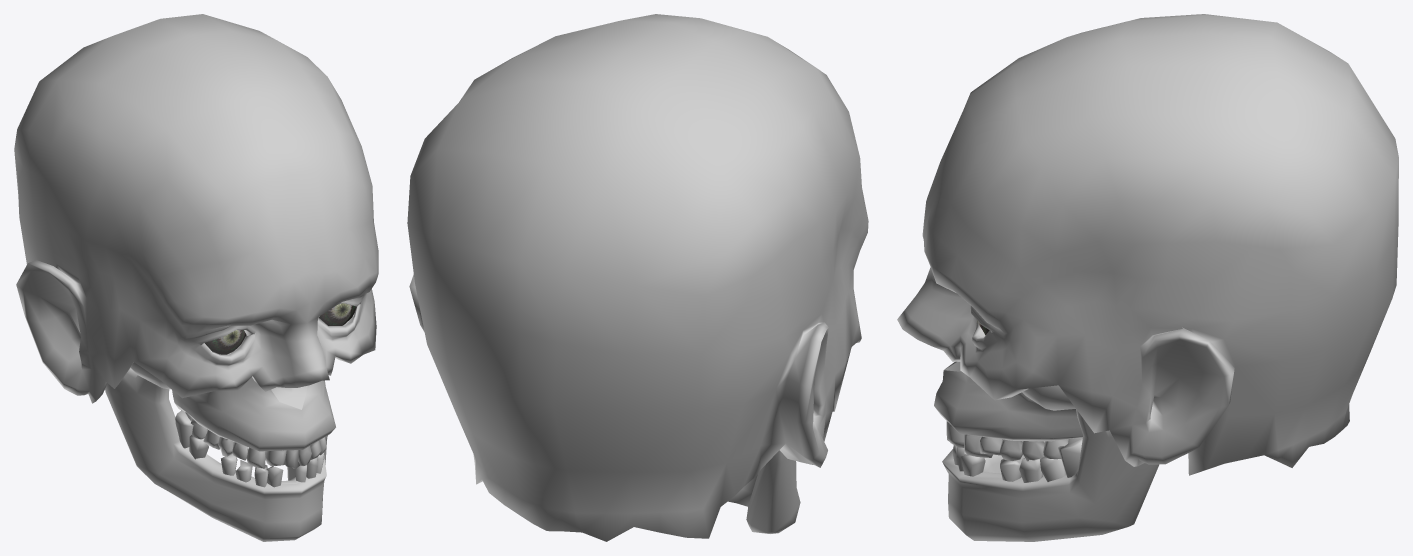
File: Head_Only_04.fbx
The picture shows the model from 3 angles, left to right: view 1: azimuth 30°, elevation 25°; view 2: azimuth 150°, elevation 25°; view 3: azimuth 270°, elevation 25°; orthographic projection. The views are drawn at different scales.
Visible parts, largest first — view 1: Head_Only_04, Jaw_Bone; view 2: Head_Only_04, Jaw_Bone; view 3: Head_Only_04, Jaw_Bone.
Part boxes in pixels (x1=…): Head_Only_04: x1=14, y1=14, x2=378, y2=468; Jaw_Bone: x1=105, y1=368, x2=327, y2=541; Head_Only_04: x1=407, y1=14, x2=868, y2=541; Jaw_Bone: x1=728, y1=450, x2=800, y2=533; Head_Only_04: x1=897, y1=14, x2=1398, y2=475; Jaw_Bone: x1=942, y1=409, x2=1159, y2=541.
Bounding box in the file's own units: 17.79 × 22.81 × 20.99.
